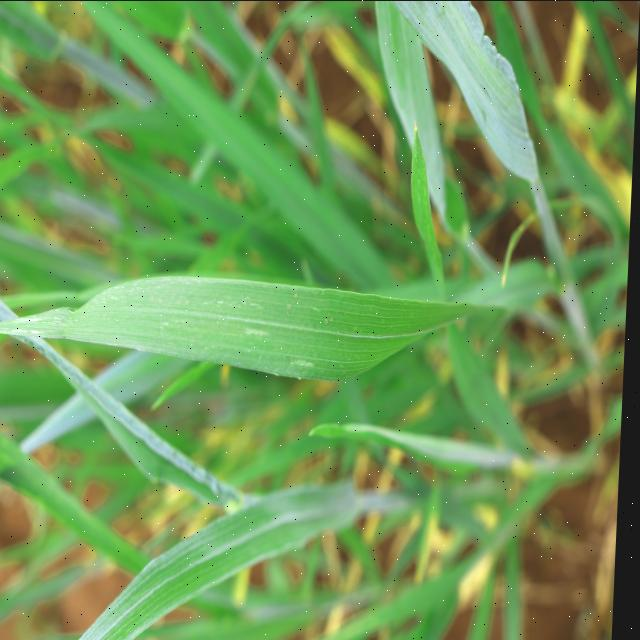healthy_wheat: (73, 0, 344, 260), (0, 268, 478, 392), (64, 479, 379, 640), (361, 0, 569, 236)
